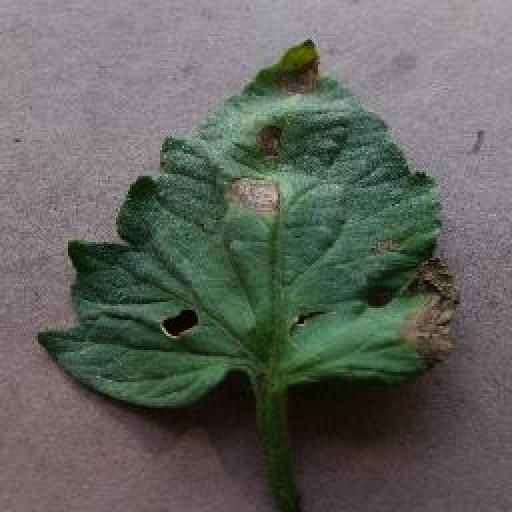disease_tomato: (34, 36, 459, 410)
